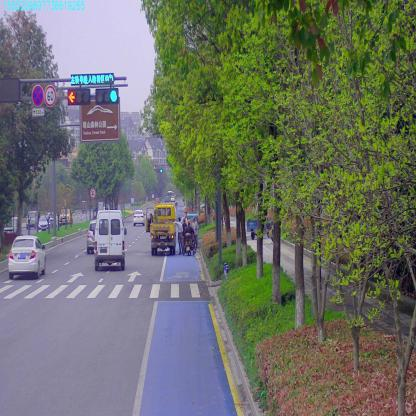traffic-light: (93, 84, 117, 107), (70, 75, 112, 85), (67, 90, 89, 104)
